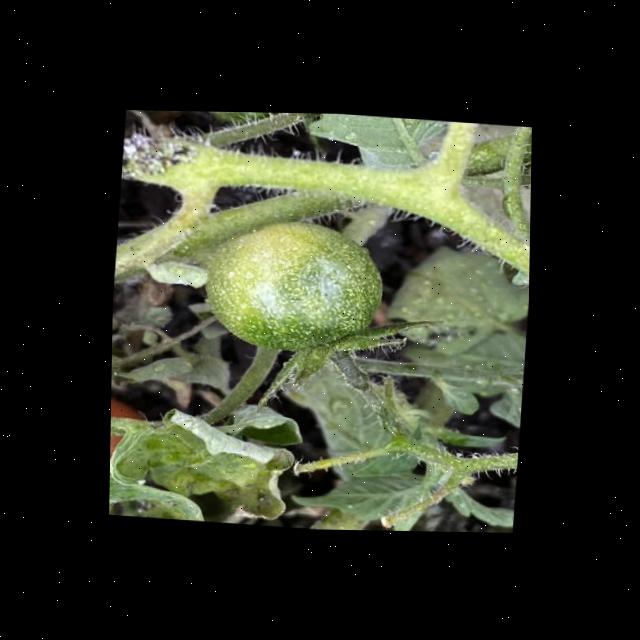tomato: (202, 215, 392, 358)
